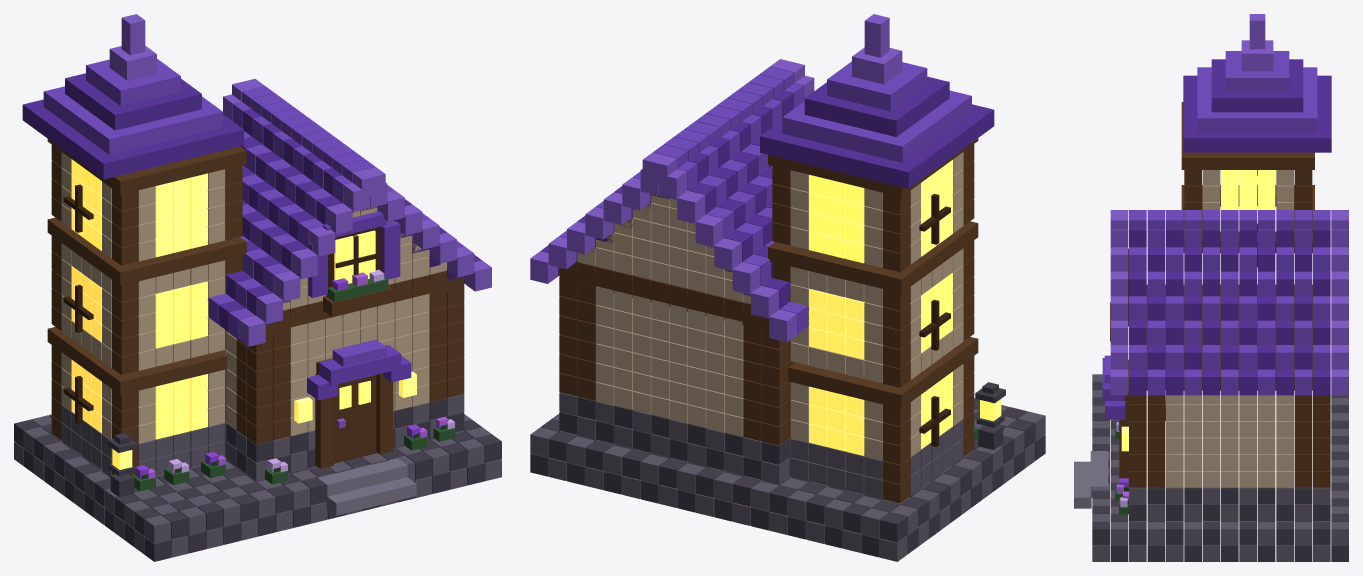
File: cottage-lantern.glb
3 views of the same model, side by side, from view 1: azimuth 30°, elevation 25°; view 2: azimuth 150°, elevation 25°; view 3: azimuth 270°, elevation 25° (orthographic). The views are drawn at different scales.
Visible parts, largest first — view 1: beam, plaster, stone, roofLight, stoneDark, roof, gold, glass, lantern, shutter, stoneLight, door (+4 smaller); view 2: plaster, beam, stone, stoneDark, roofLight, roof, gold, glass, lantern, beamDark; view 3: roofLight, roof, beam, plaster, stoneDark, stone, gold, lantern, stoneLight, shutter.
Boxes of the visible parts, bbox=[...] form: beam: bbox=[47, 139, 464, 474]; plaster: bbox=[61, 152, 446, 443]; stone: bbox=[14, 394, 501, 557]; roofLight: bbox=[43, 59, 464, 366]; stoneDark: bbox=[14, 398, 501, 561]; roof: bbox=[22, 73, 481, 331]; gold: bbox=[109, 14, 491, 428]; glass: bbox=[71, 230, 375, 439]; lantern: bbox=[71, 159, 416, 469]; shutter: bbox=[307, 211, 411, 400]; stoneLight: bbox=[318, 458, 416, 515]; door: bbox=[334, 375, 376, 463]; plaster: bbox=[577, 152, 963, 460]; beam: bbox=[559, 138, 978, 503]; stone: bbox=[530, 392, 1045, 561]; stoneDark: bbox=[530, 382, 1045, 557]; roofLight: bbox=[559, 61, 971, 334]; roof: bbox=[541, 76, 994, 326]; gold: bbox=[530, 14, 902, 342]; glass: bbox=[809, 273, 952, 455]; lantern: bbox=[809, 160, 1001, 421]; beamDark: bbox=[919, 194, 950, 446]; roofLight: bbox=[1104, 51, 1330, 395]; roof: bbox=[1129, 59, 1331, 395]; beam: bbox=[1110, 102, 1330, 487]; plaster: bbox=[1166, 170, 1293, 487]; stoneDark: bbox=[1092, 382, 1348, 561]; stone: bbox=[1092, 374, 1348, 561]; gold: bbox=[1110, 14, 1348, 430]; lantern: bbox=[1121, 170, 1275, 451]; stoneLight: bbox=[1074, 451, 1108, 508]; shutter: bbox=[1102, 358, 1125, 419].
Bounding box in the file's own units: 2.9 × 3.66 × 2.17.
